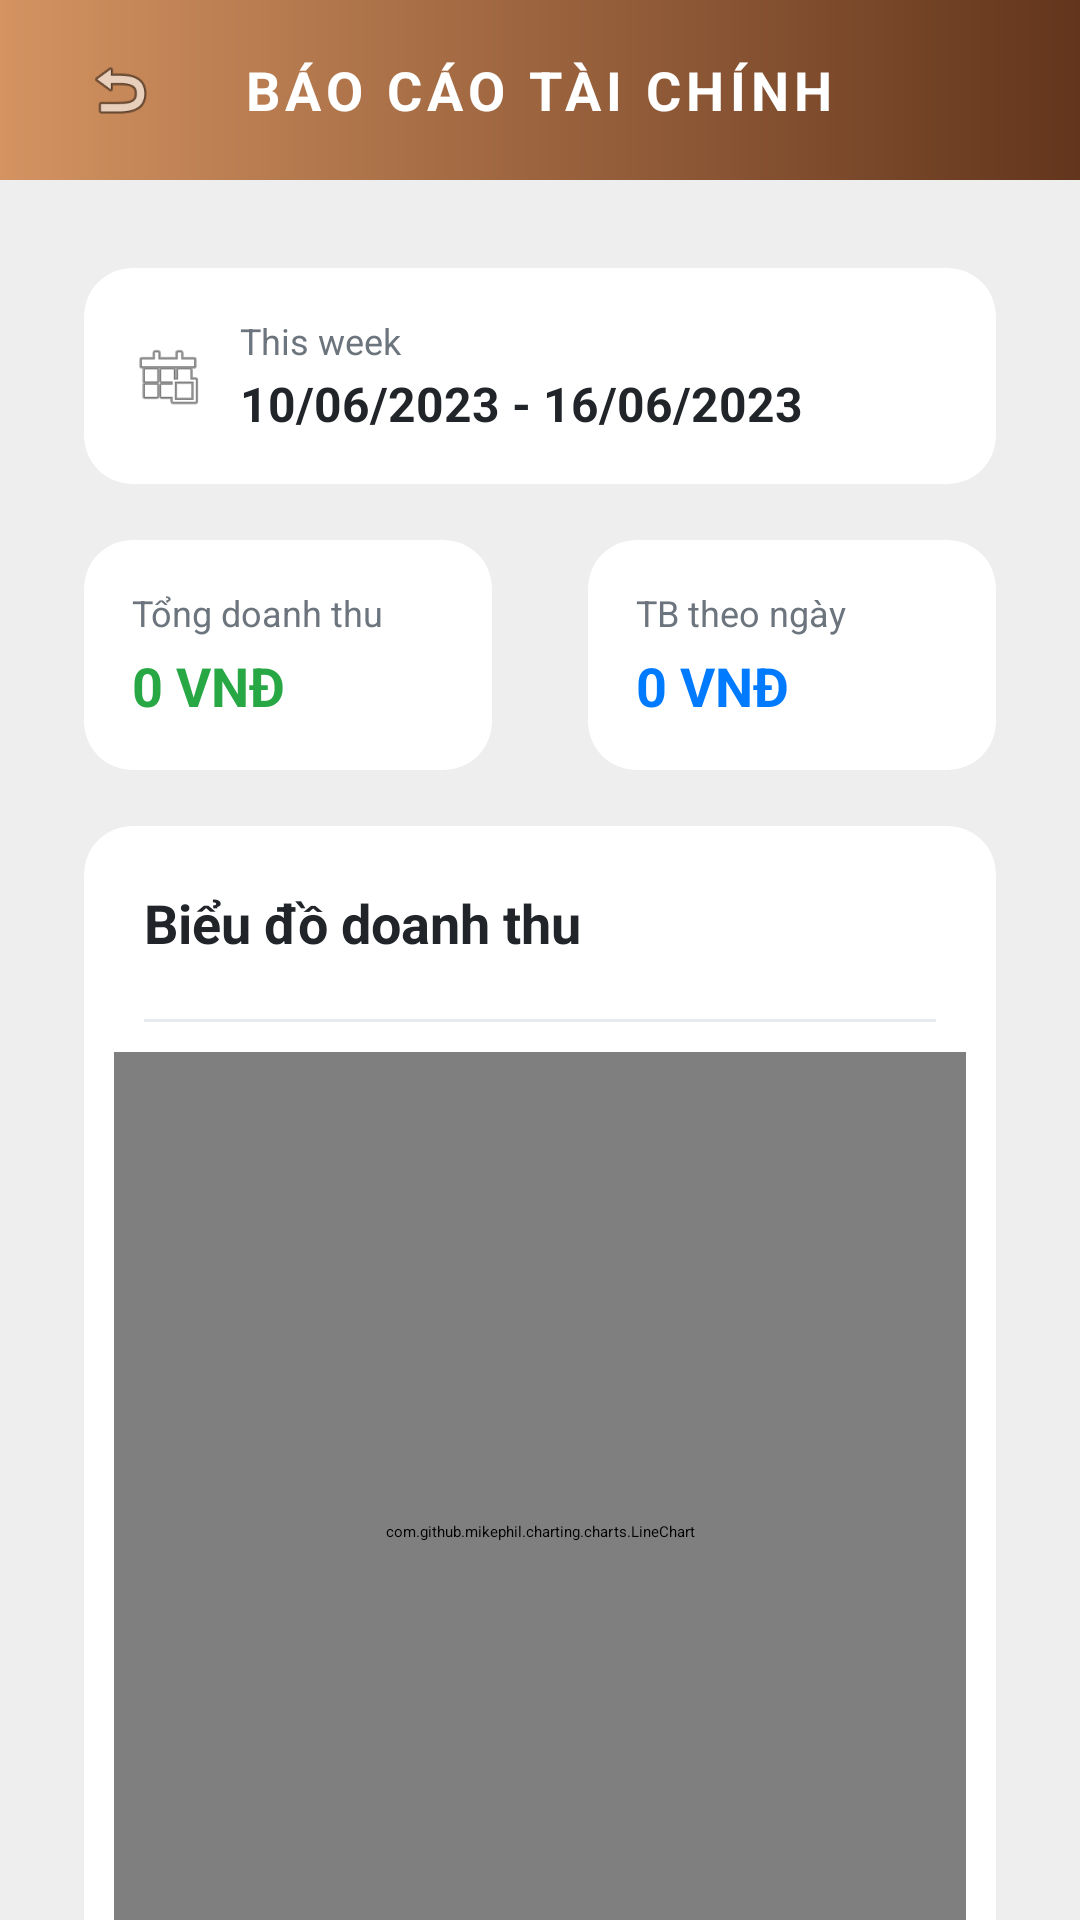

Icons on this 1080x1920 Android screen, each with the point to tap as (x=x, y=y):
revert: (x=121, y=90)
today: (x=168, y=377)
